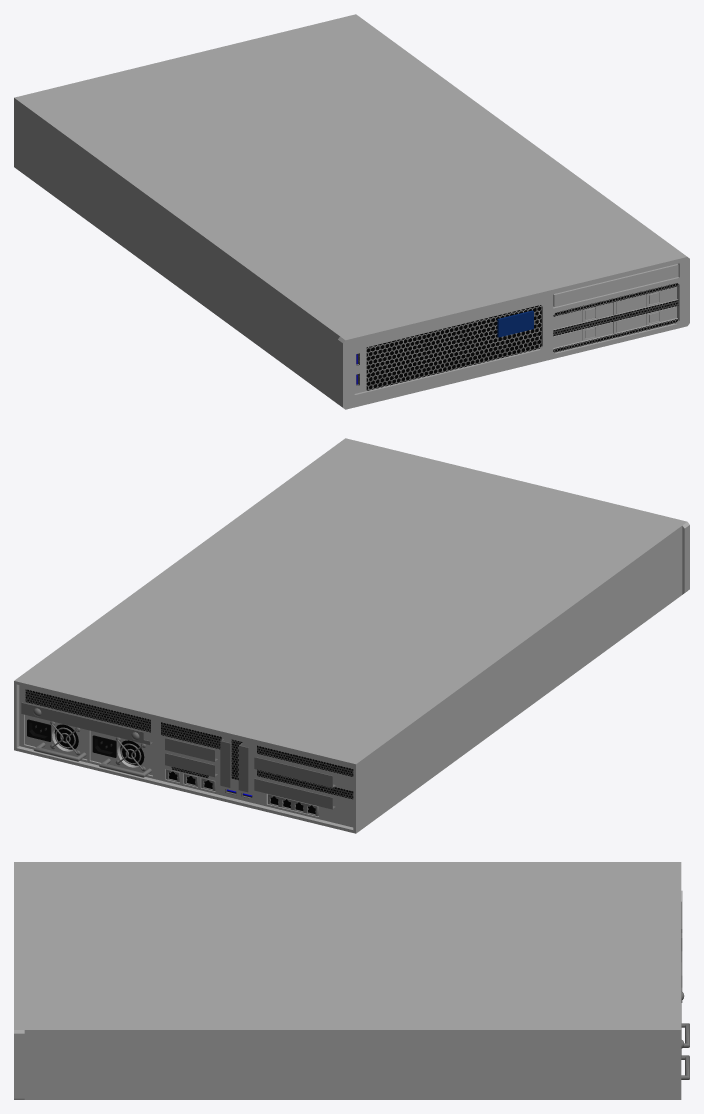
The model's file is SUN_Fire V215.fbx.
3 views of the same model, one above another, from view 1: azimuth 30°, elevation 25°; view 2: azimuth 150°, elevation 25°; view 3: azimuth 270°, elevation 25° (orthographic).
Parts seen in each view (by area): view 1: SUN_Fire V215; view 2: SUN_Fire V215; view 3: SUN_Fire V215.
Part boxes in pixels (x1,y1,x2,y2): SUN_Fire V215: (14,14,689,409); SUN_Fire V215: (14,438,689,833); SUN_Fire V215: (14,862,689,1099).
Bounding box in the file's own units: 480 × 91.77 × 804.
Materials: 8 (1 with a texture image).
